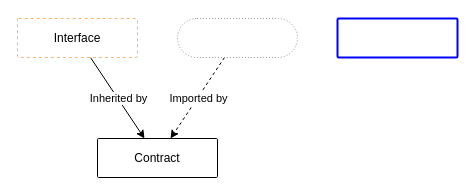
The diagram is 476 pixels wide and 195 high, and some of its shapes have lost their labels. Here are the shapes that lost their labels. From the top down, the centre of each, then its label:
At (x=237, y=38): "Library".
At (x=397, y=37): "DeployedContract".
